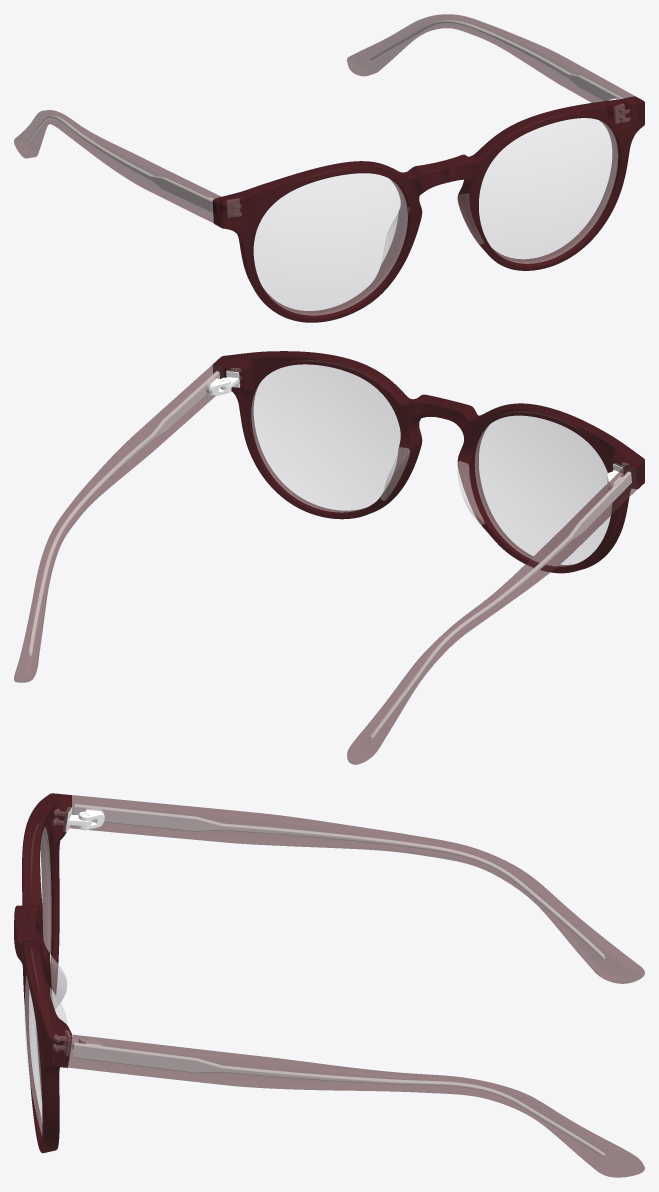
File: GLB1.glb
3 views of the same model, one above another, from view 1: azimuth 30°, elevation 25°; view 2: azimuth 150°, elevation 25°; view 3: azimuth 270°, elevation 25° (orthographic). The views are drawn at different scales.
Parts seen in each view (by area): view 1: Object_13.002, Object_13, Object_21.005, Object_21.004, Object_21.002, Object_21, Object_14, Object_14.002, Object_12.002, Object_12.004; view 2: Object_13, Object_13.002, Object_21.002, Object_21, Object_14.002, Object_21.005, Object_14, Object_21.004, Object_12.004, Object_12.002, Object_20.002, Object_20; view 3: Object_14, Object_14.002, Object_21.002, Object_21, Object_21.005, Object_21.004, Object_12.002, Object_12.004, Object_13, Object_13.002, Object_20.002.
Boxes of the visible parts, <box> form: Object_13.002: <box>254,173,407,315</box>; Object_13: <box>479,118,617,263</box>; Object_21.005: <box>212,161,448,322</box>; Object_21.004: <box>213,161,448,322</box>; Object_21.002: <box>441,96,644,270</box>; Object_21: <box>441,96,644,270</box>; Object_14: <box>347,14,634,102</box>; Object_14.002: <box>14,110,221,222</box>; Object_12.002: <box>369,20,623,101</box>; Object_12.004: <box>28,115,213,213</box>; Object_13: <box>251,364,400,512</box>; Object_13.002: <box>475,416,610,565</box>; Object_21.002: <box>213,351,447,519</box>; Object_21: <box>213,351,447,519</box>; Object_14.002: <box>347,465,637,764</box>; Object_21.005: <box>440,400,644,573</box>; Object_14: <box>14,364,223,682</box>; Object_21.004: <box>440,400,644,572</box>; Object_12.004: <box>369,471,631,739</box>; Object_12.002: <box>28,371,219,656</box>; Object_20.002: <box>458,461,484,524</box>; Object_20: <box>380,447,409,500</box>; Object_14: <box>68,1034,644,1177</box>; Object_14.002: <box>69,795,644,983</box>; Object_21.002: <box>14,919,71,1152</box>; Object_21: <box>14,919,71,1152</box>; Object_21.005: <box>14,793,71,1001</box>; Object_21.004: <box>14,793,71,988</box>; Object_12.002: <box>72,1042,605,1156</box>; Object_12.004: <box>73,804,605,959</box>; Object_13: <box>25,976,42,1133</box>; Object_13.002: <box>40,827,51,957</box>; Object_20.002: <box>50,954,66,1008</box>.
Bounding box in the file's own units: 0.139 × 0.0479 × 0.1486.
